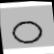no answer: (9, 17, 44, 46)
